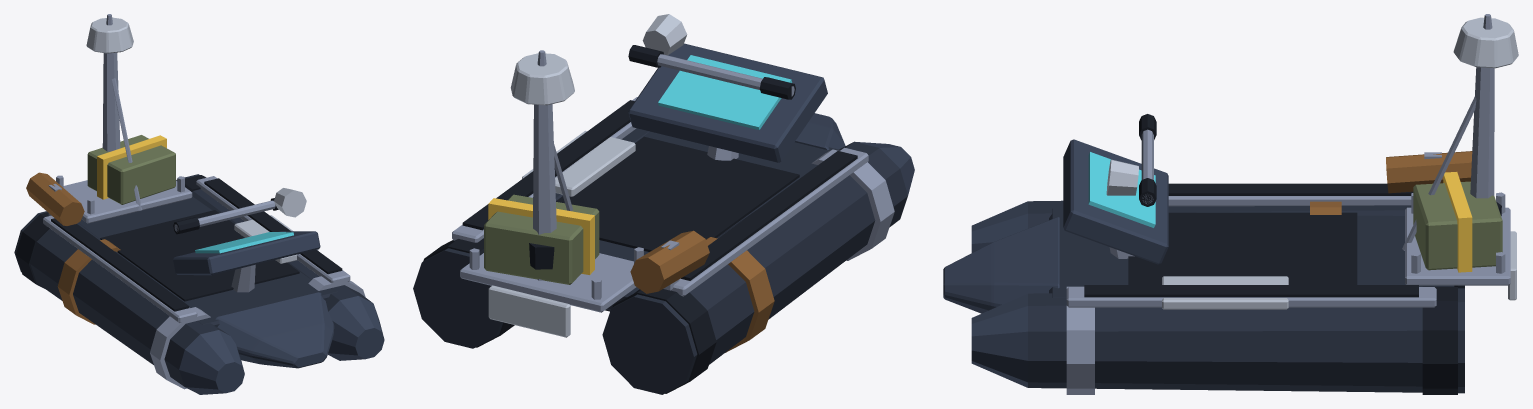
The model's file is skimmer.glb.
3 renders of one model, left to right at view 1: azimuth 30°, elevation 25°; view 2: azimuth 150°, elevation 25°; view 3: azimuth 270°, elevation 25°, orthographic. The views are drawn at different scales.
Parts seen in each view (by area): view 1: pod-starboard, deck-grip, skimmer-prow, skimmer-deck, sample-crate, pod-nose-starboard, console-cowl, pod-nose-port, rack-plate, grip-strip-starboard, spare-canister, grip-strip-port (+17 smaller); view 2: pod-starboard, deck-grip, console-cowl, pod-port, sample-crate, console-screen, rack-plate, grip-strip-starboard, spare-canister, tail-plate, mast-column, sensor-head (+17 smaller); view 3: pod-port, deck-grip, skimmer-prow, skimmer-deck, console-cowl, sample-crate, grip-strip-port, pod-nose-port, pod-efflux-port, running-board-port, grip-strip-starboard, mast-column (+14 smaller).
Boxes of the visible parts, box(x1,y1,x2,y2) form: pod-starboard: box(14, 211, 229, 386); deck-grip: box(100, 210, 299, 301); skimmer-prow: box(215, 292, 334, 368); skimmer-deck: box(79, 196, 337, 326); sample-crate: box(87, 135, 175, 204); pod-nose-starboard: box(179, 330, 244, 394); console-cowl: box(173, 231, 320, 275); pod-nose-port: box(328, 296, 384, 360); rack-plate: box(63, 180, 192, 223); grip-strip-starboard: box(51, 218, 189, 311); spare-canister: box(26, 172, 84, 225); grip-strip-port: box(204, 178, 342, 274); pod-starboard: box(602, 142, 907, 394); deck-grip: box(556, 136, 799, 251); console-cowl: box(628, 43, 827, 162); pod-port: box(413, 128, 649, 348); sample-crate: box(484, 194, 599, 284); console-screen: box(658, 55, 792, 129); rack-plate: box(460, 253, 636, 312); grip-strip-starboard: box(681, 151, 857, 280); spare-canister: box(630, 230, 709, 293); tail-plate: box(488, 285, 570, 337); mast-column: box(533, 104, 556, 280); sensor-head: box(510, 53, 574, 105); pod-port: box(1028, 288, 1464, 393); deck-grip: box(1128, 212, 1357, 284); skimmer-prow: box(943, 217, 1059, 313); skimmer-deck: box(1049, 208, 1454, 297); console-cowl: box(1063, 139, 1168, 264); sample-crate: box(1413, 181, 1502, 270); grip-strip-port: box(1084, 285, 1418, 297); pod-nose-port: box(971, 293, 1027, 387); pod-efflux-port: box(1422, 286, 1457, 394); running-board-port: box(1066, 287, 1436, 307); grip-strip-starboard: box(1168, 183, 1413, 195); mast-column: box(1470, 67, 1494, 198).
Size of the model in its own units: 1.87 by 2.05 by 3.26.
